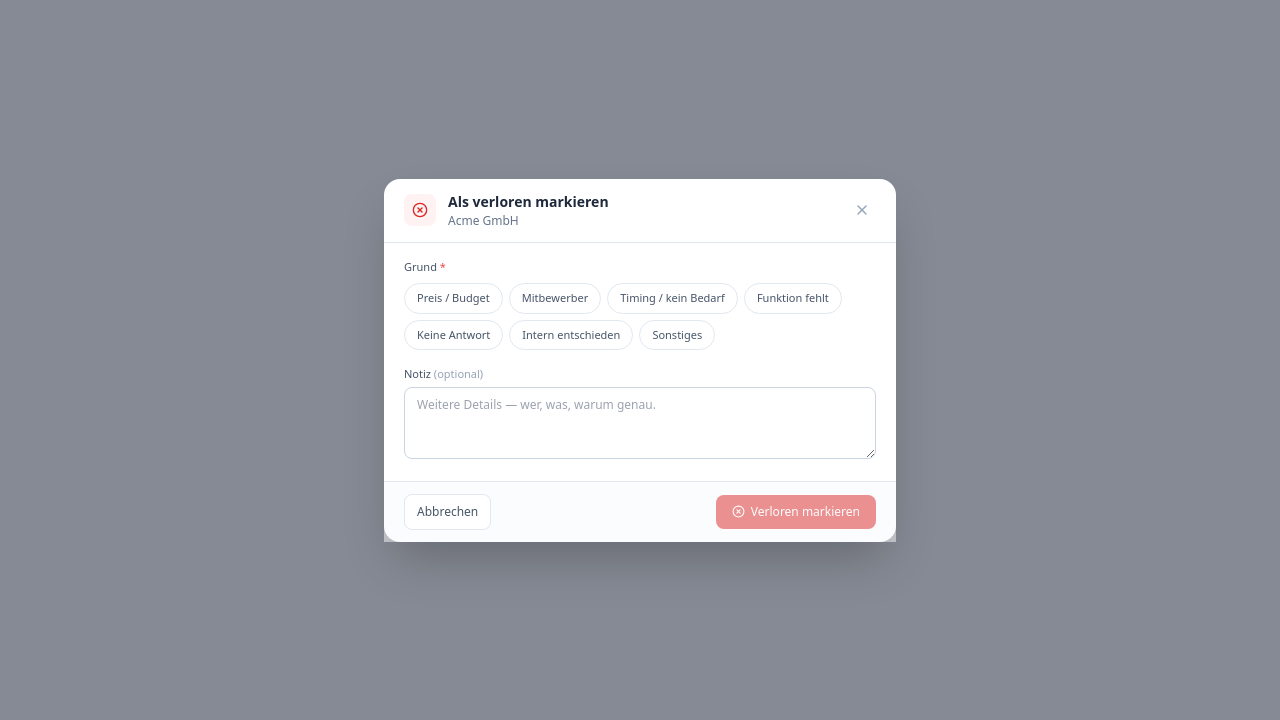
LostReasonModal › the submit button is disabled until a reason is selected (required)
This screenshot has width=1280, height=720.
Check: the button "Verloren markieren" is disabled, box [716,494,876,528]
Click the button "Preis / Budget". click: (453, 298)
box: [404,283,503,314]
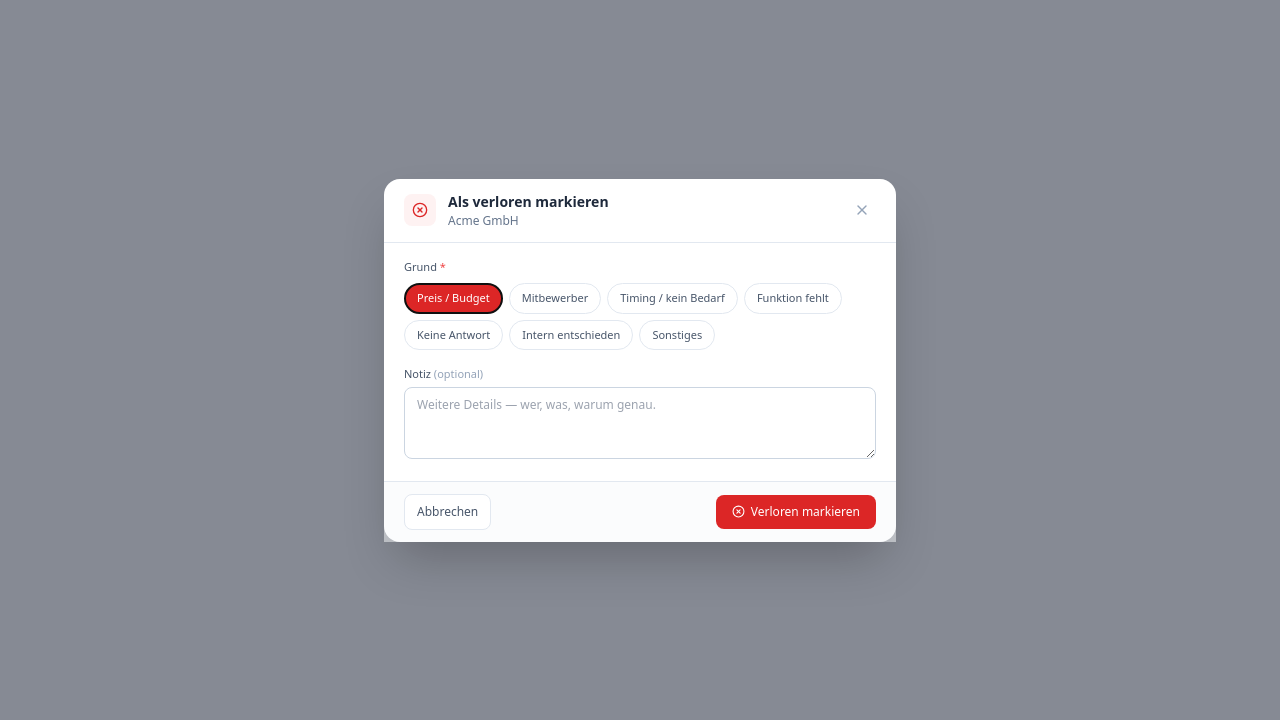
Check: the button "Verloren markieren" is enabled, box [716,494,876,528]
